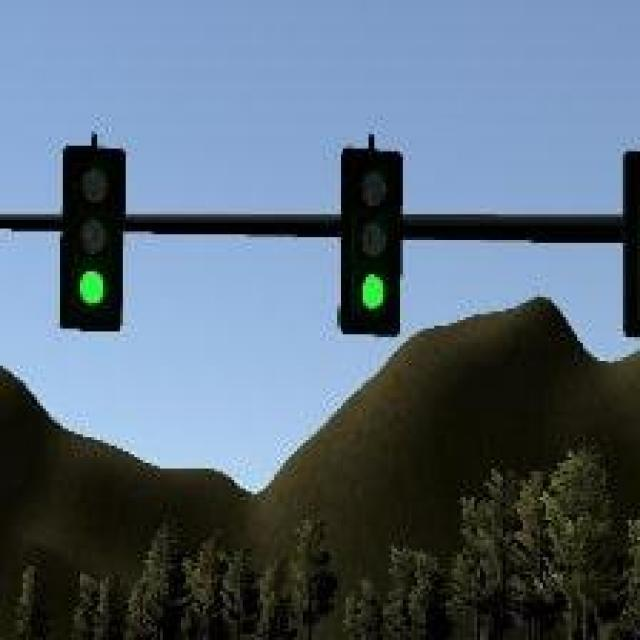green_light: (340, 149, 403, 338), (63, 143, 123, 332)
